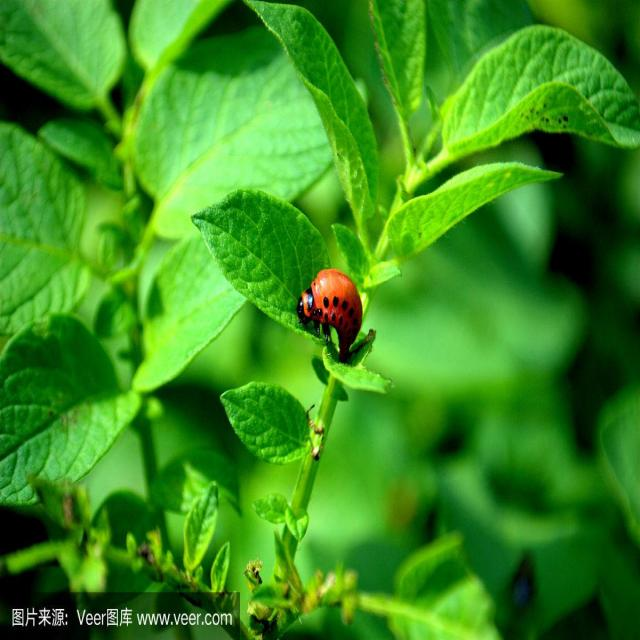ShuCaiHuaBanChong-Larva-: (288, 258, 379, 376)
